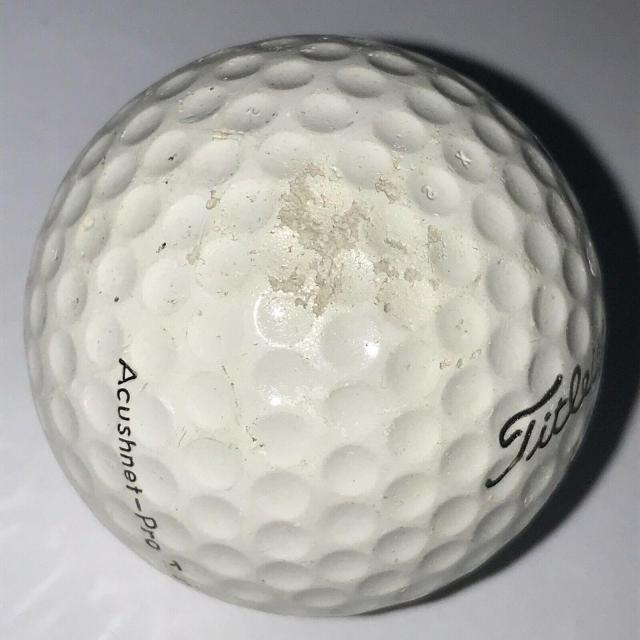ball: (20, 32, 628, 625)
